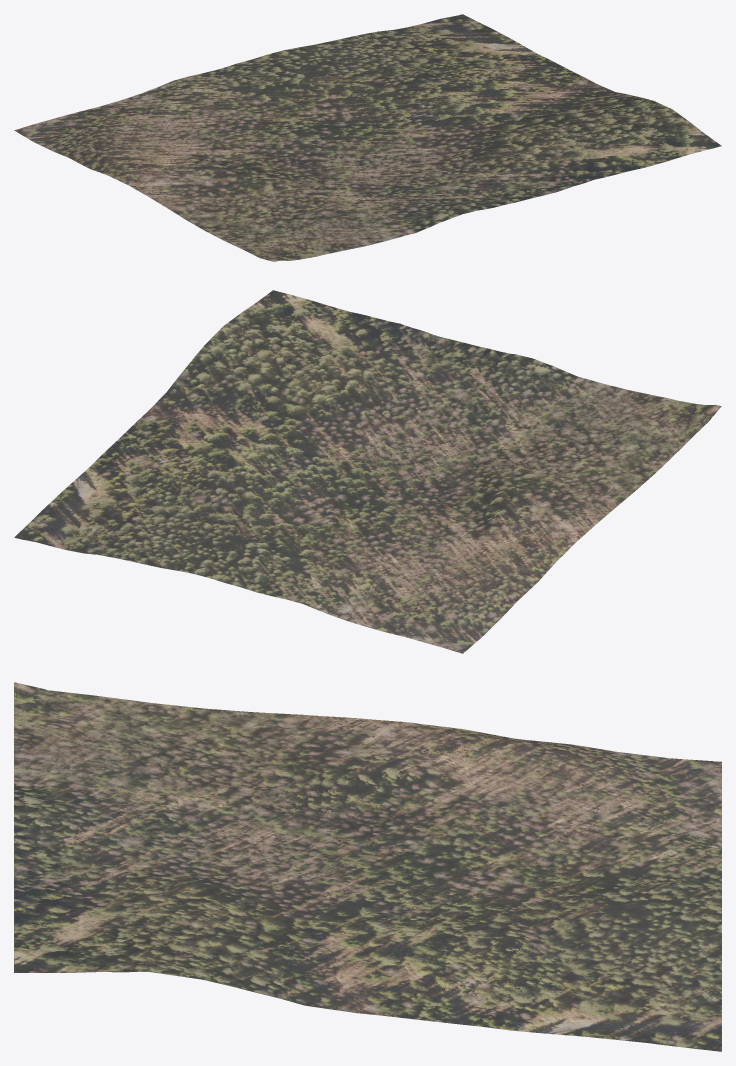
The model's file is CM_Terrain_24489025_6822660.fbx.
3 renders of one model, top to bottom at view 1: azimuth 30°, elevation 25°; view 2: azimuth 150°, elevation 25°; view 3: azimuth 270°, elevation 25°, orthographic. The views are drawn at different scales.
Parts seen in each view (by area): view 1: CM_Terrain_24489025_6822660_LOD0; view 2: CM_Terrain_24489025_6822660_LOD0; view 3: CM_Terrain_24489025_6822660_LOD0.
Part boxes in pixels (x1=…): CM_Terrain_24489025_6822660_LOD0: x1=14, y1=14, x2=721, y2=261; CM_Terrain_24489025_6822660_LOD0: x1=14, y1=290, x2=721, y2=653; CM_Terrain_24489025_6822660_LOD0: x1=14, y1=682, x2=721, y2=1051.
Size of what is drawn, in the model's own units: 205 by 28.39 by 205.
